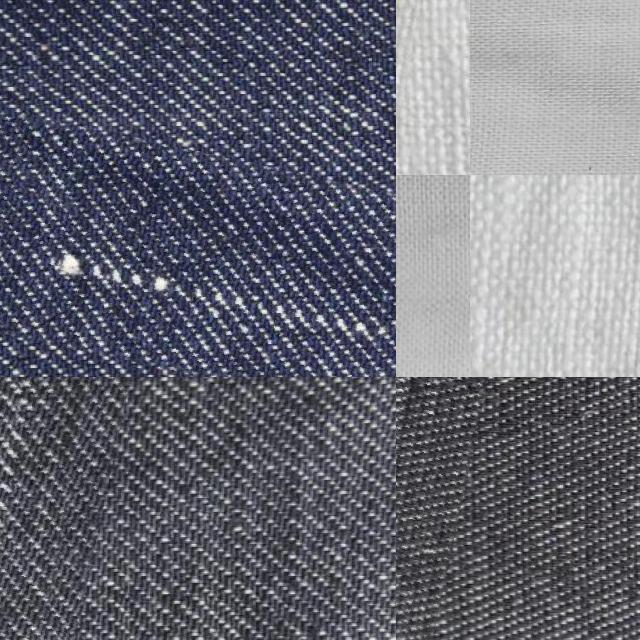Thread_other: (0, 114, 396, 377), (0, 377, 119, 640), (396, 377, 462, 640)
